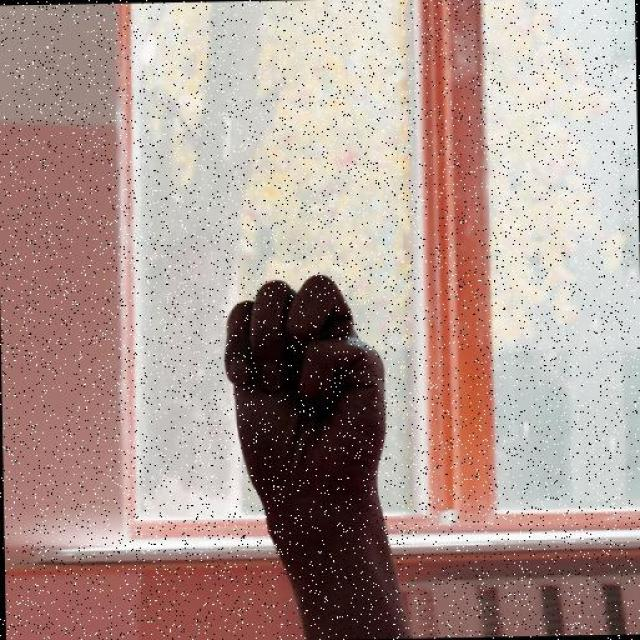M: (220, 270, 393, 500)
